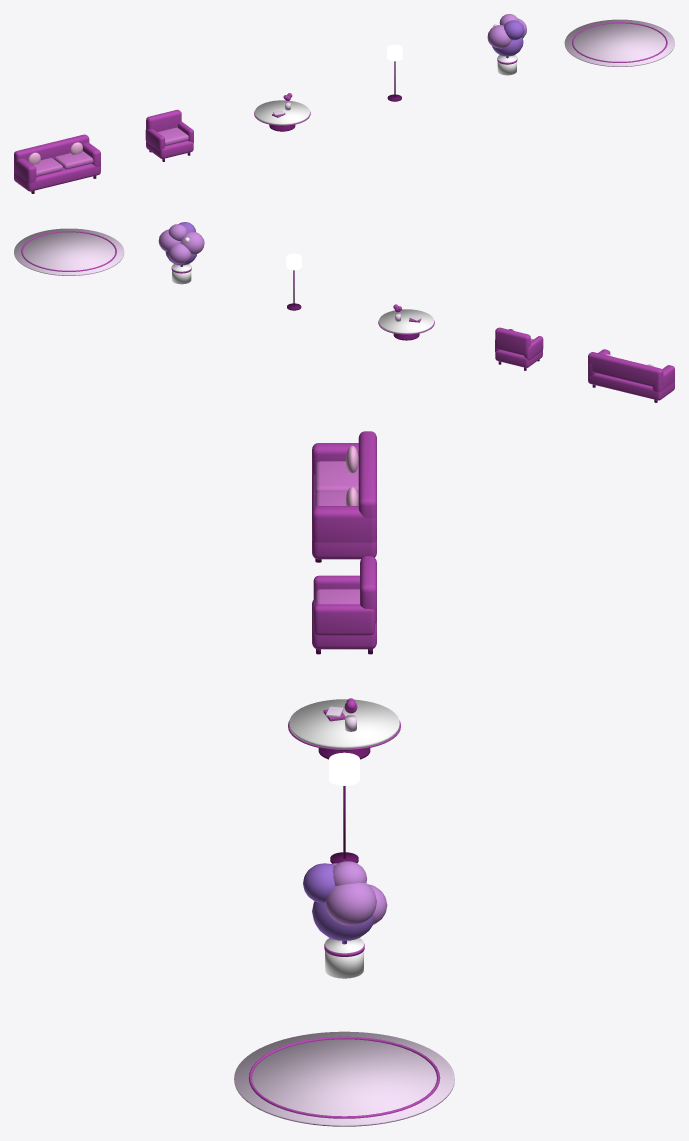
File: furniture_a.glb
3 renders of one model, top to bottom at view 1: azimuth 30°, elevation 25°; view 2: azimuth 150°, elevation 25°; view 3: azimuth 270°, elevation 25°, orthographic. The views are drawn at different scales.
Parts seen in each view (by area): view 1: RugDisc, SofaBase, TableTop, SofaBack, ChairBack, ChairBase, SeatCushion.001, RugRing, SofaArm, Foliage2, SeatCushion, ChairSeat (+4 smaller); view 2: RugDisc, SofaBack, TableTop, SofaBase, ChairBack, ChairBase, RugRing, Foliage2, Foliage4, SofaArm, PotBody; view 3: RugDisc, TableTop, SofaArm.001, ChairArm.001, Foliage1, SofaBack, RugRing, PotBody, SofaBase, SeatCushion, Foliage0, ChairBase (+1 smaller).
Part boxes in pixels (x1,y1,x2,y2): RugDisc: (564,19,674,66); SofaBase: (14,163,100,191); TableTop: (254,100,309,124); SofaBack: (14,134,89,164); ChairBack: (146,109,181,131); ChairBase: (146,140,193,158); SeatCushion.001: (54,151,93,169); RugRing: (572,22,667,62); SofaArm: (14,158,36,183); Foliage2: (487,25,511,48); SeatCushion: (33,158,62,176); ChairSeat: (157,127,188,145); RugDisc: (14,228,124,275); SofaBack: (588,352,663,386); TableTop: (379,309,434,333); SofaBase: (588,373,674,400); ChairBack: (495,327,530,355); ChairBase: (495,350,542,367); RugRing: (21,231,116,271); Foliage2: (180,231,204,254); Foliage4: (168,243,191,264); SofaArm: (652,365,674,392); PotBody: (172,264,191,284); RugDisc: (234,1031,454,1126); TableTop: (289,699,399,748); SofaArm.001: (312,506,376,542); ChairArm.001: (313,604,375,635); Foliage1: (325,883,376,925); SofaBack: (358,431,376,530); RugRing: (248,1036,440,1118); PotBody: (325,938,363,978); SofaBase: (312,474,376,559); SeatCushion: (315,461,358,493); Foliage0: (312,901,374,940); ChairBase: (312,600,376,649).
Size of the model in its own units: 23 by 1.87 by 3.4.
